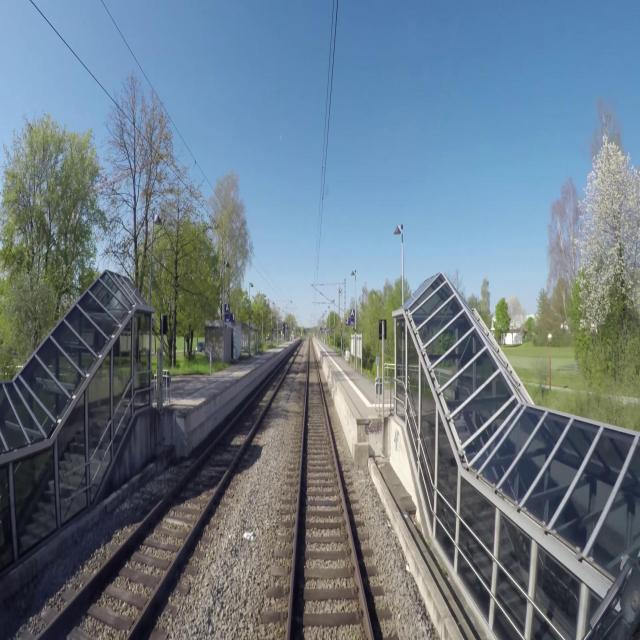rail-track: (40, 351, 295, 639), (291, 344, 369, 639)
